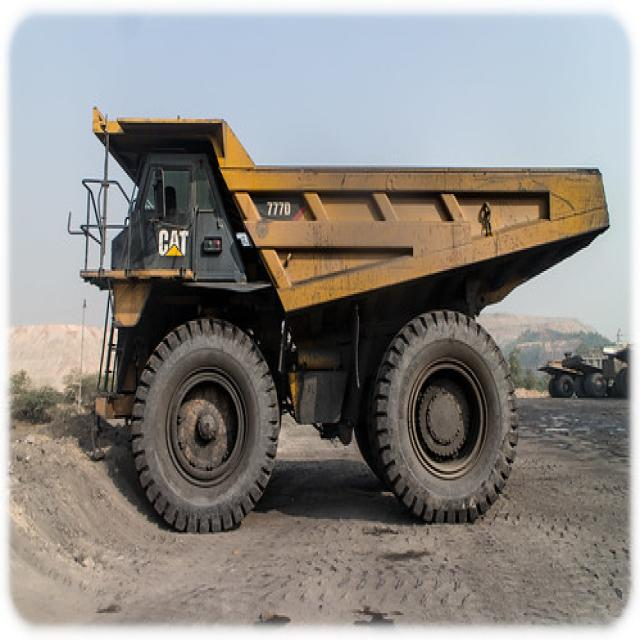dump_truck: (73, 96, 608, 532)
